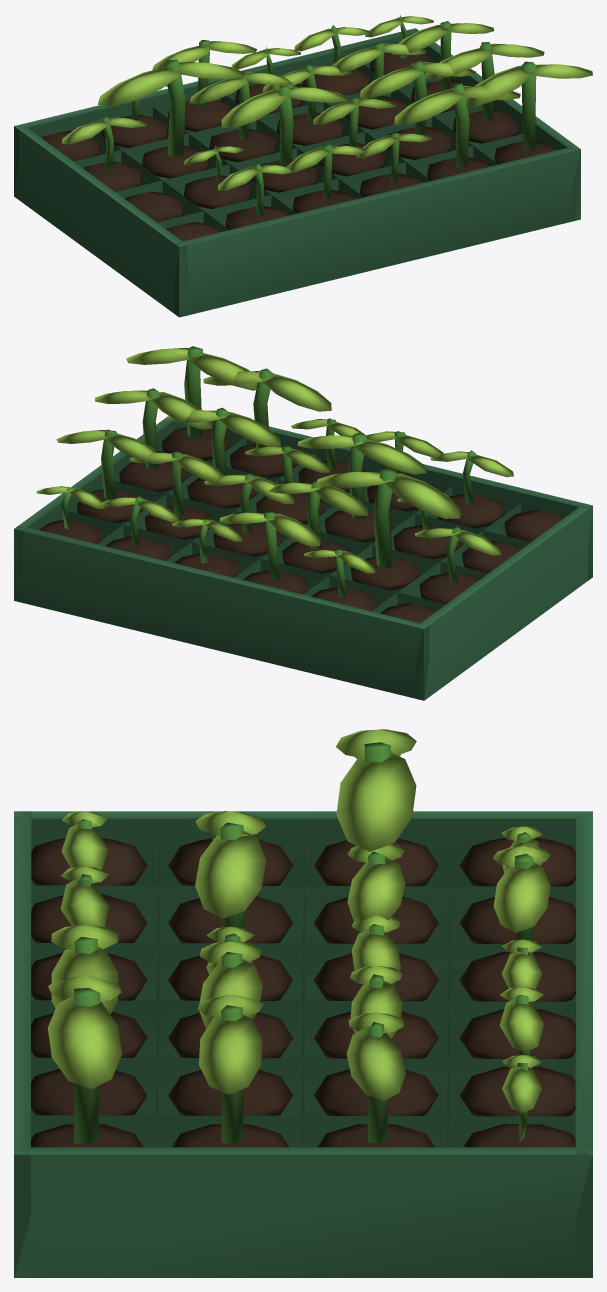
The model's file is canopy_seedling_flat_lod1.glb.
3 views of the same model, one above another, from view 1: azimuth 30°, elevation 25°; view 2: azimuth 150°, elevation 25°; view 3: azimuth 270°, elevation 25° (orthographic). The views are drawn at different scales.
Parts seen in each view (by area): view 1: canopy_seedling_flat.001; view 2: canopy_seedling_flat.001; view 3: canopy_seedling_flat.001.
Part boxes in pixels (bbox=[...]): canopy_seedling_flat.001: bbox=[14, 15, 592, 317]; canopy_seedling_flat.001: bbox=[14, 346, 592, 700]; canopy_seedling_flat.001: bbox=[14, 729, 592, 1277].
Bounding box in the file's own units: 7.79 × 2.61 × 4.97.
